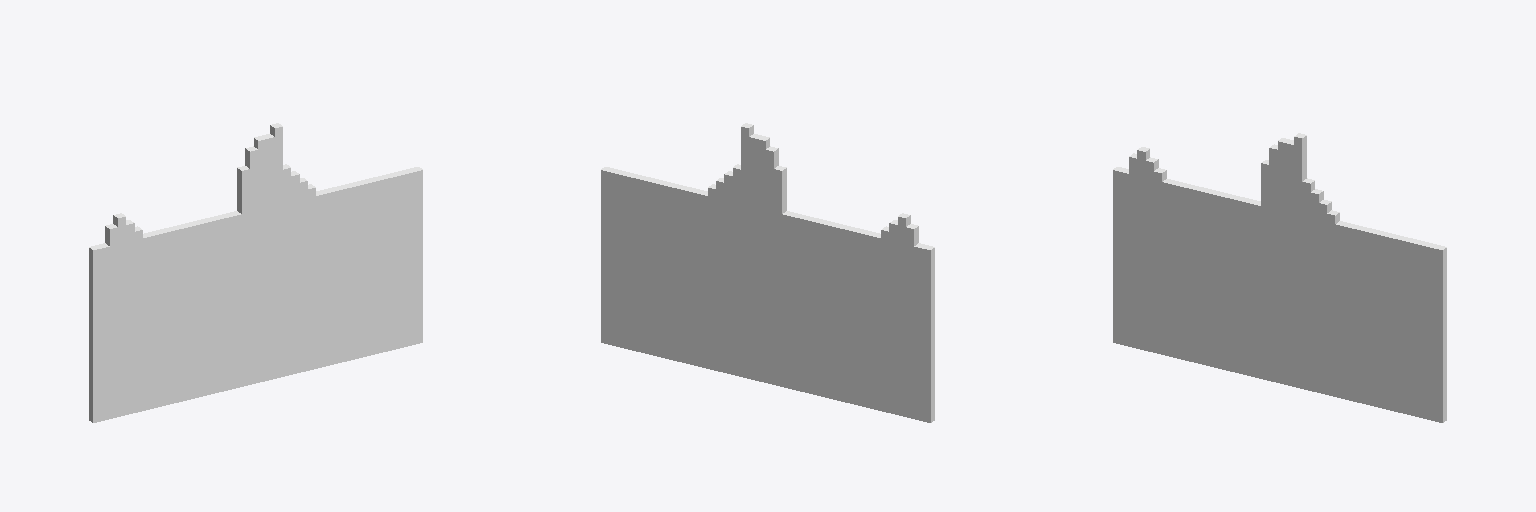
Rendered from Stage2_Parts4.obj.
3 renders of one model, left to right at view 1: azimuth 30°, elevation 25°; view 2: azimuth 150°, elevation 25°; view 3: azimuth 330°, elevation 25°, orthographic.
Visible parts, largest first — view 1: object 1; view 2: object 1; view 3: object 1.
Part boxes in pixels (x1,y1,x2,y2): object 1: (89, 123, 422, 422); object 1: (601, 123, 934, 422); object 1: (1113, 133, 1446, 422).
Bounding box in the file's own units: 4 × 2.9 × 0.1.